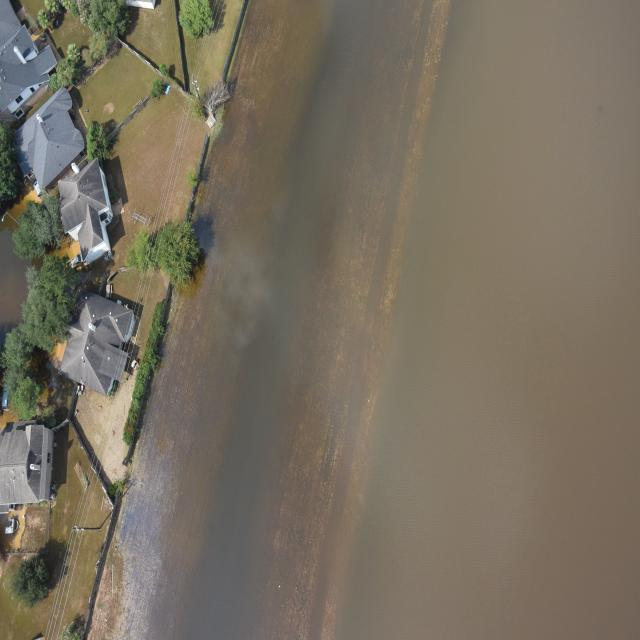fire: (115, 0, 640, 639), (0, 229, 30, 344)
